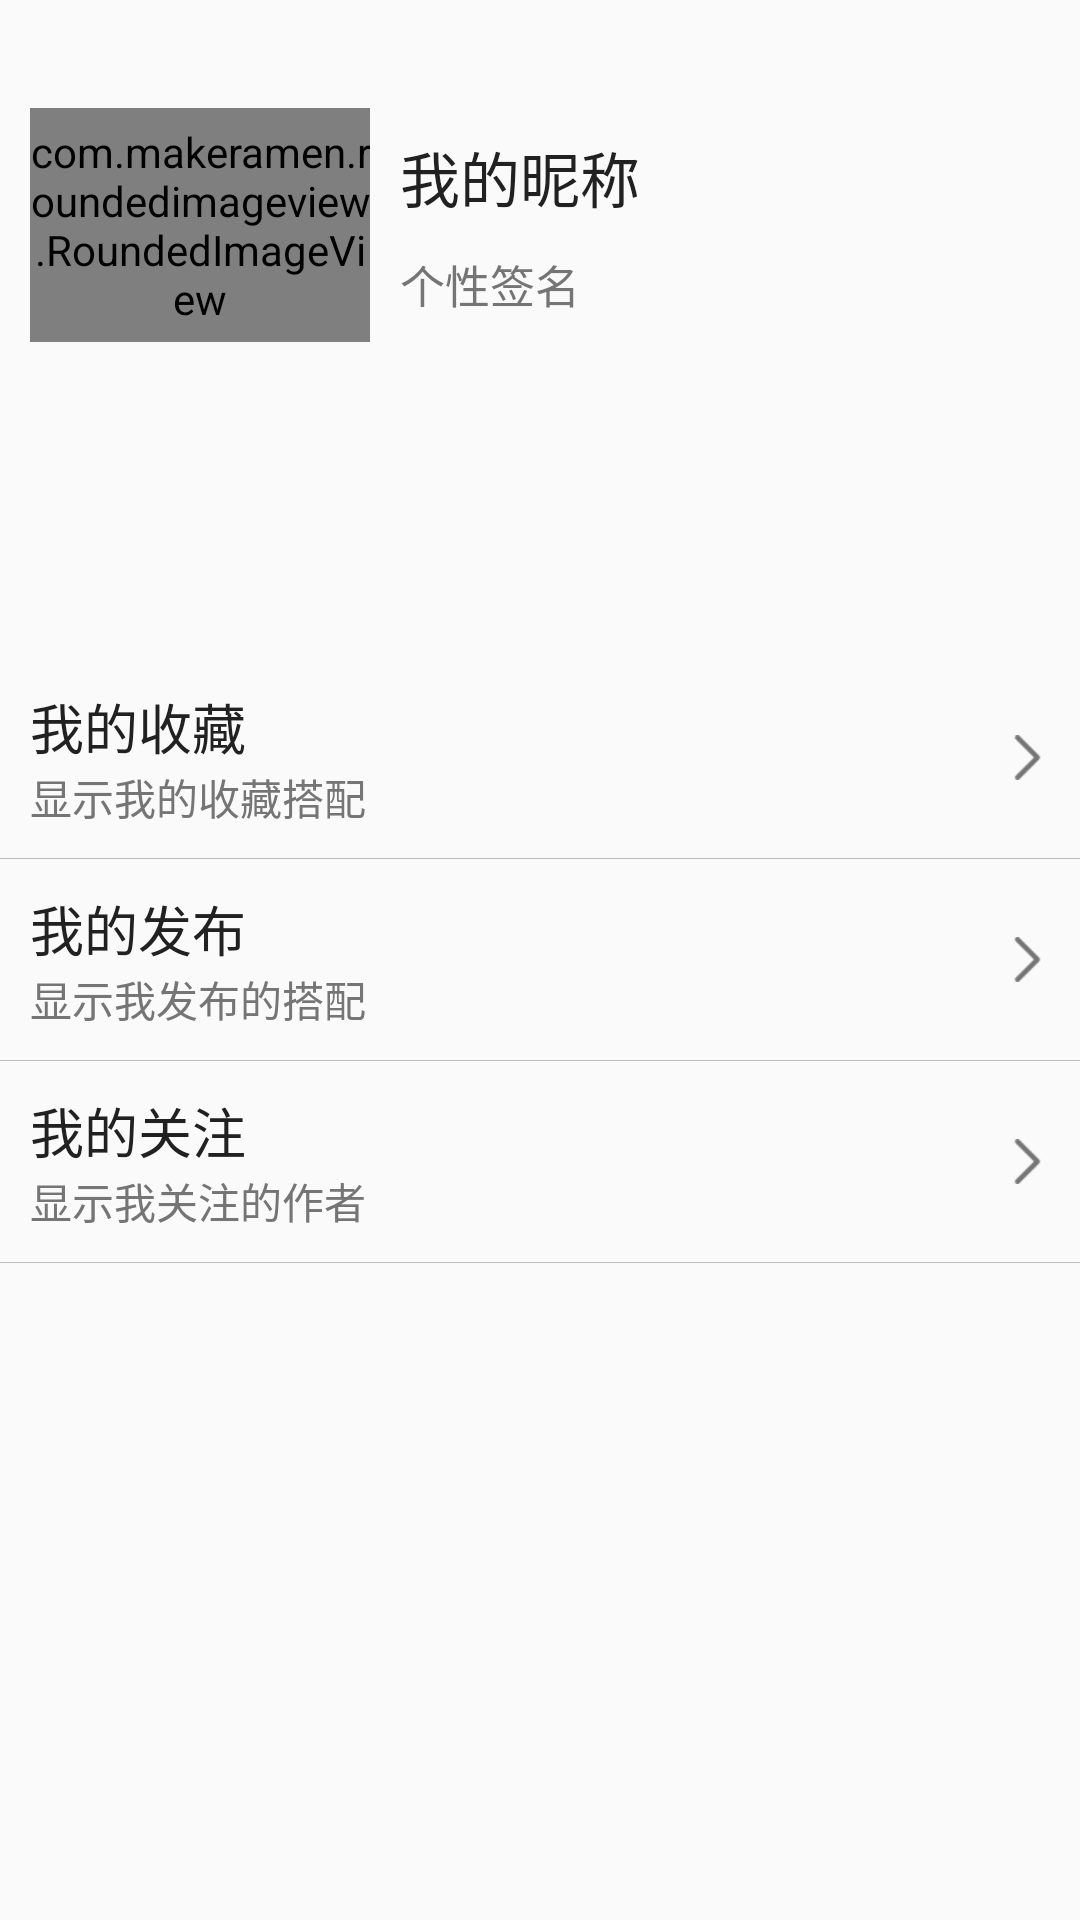

Icons on this 1080 × 1920 Android screen, each with the point to tap as (x=x, y=y):
arrow right: (x=1027, y=757), (x=1027, y=959), (x=1027, y=1161)
